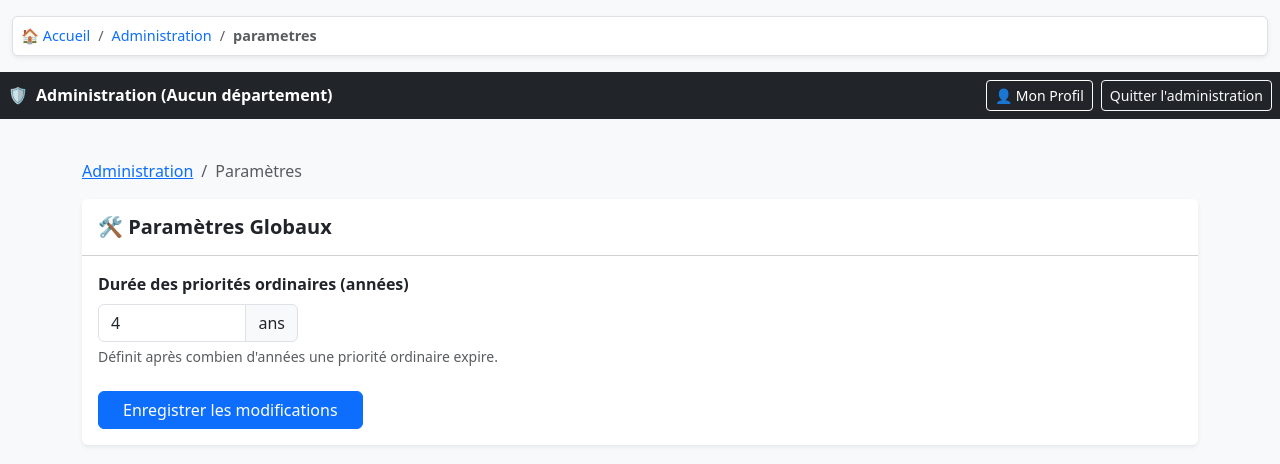
Test: Préférences et Priorités › devrait configurer les paramètres globaux
Replace the text in the number field with "5" at (173, 323), box [98,304,247,342]
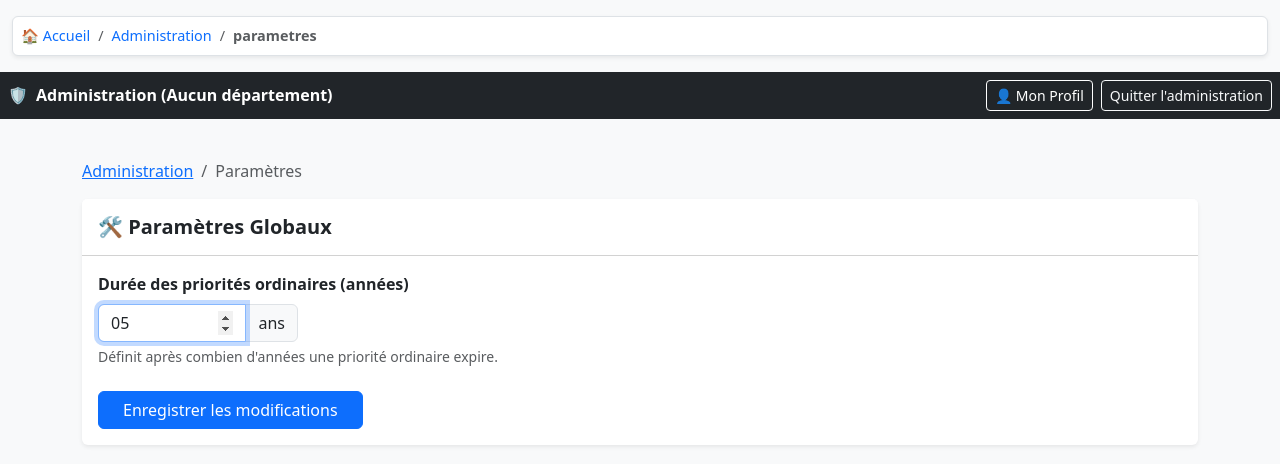
Click the button "Enregistrer les modifications" at (231, 410), box [98,391,363,429]
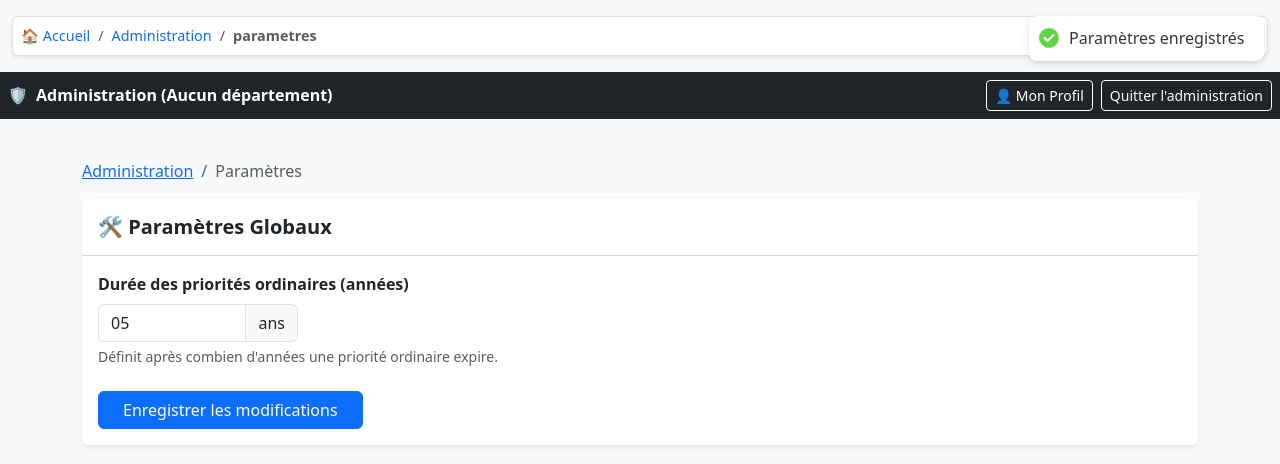
Expected: the text "Paramètres enregistrés" is shown, [1069,28,1244,49]
